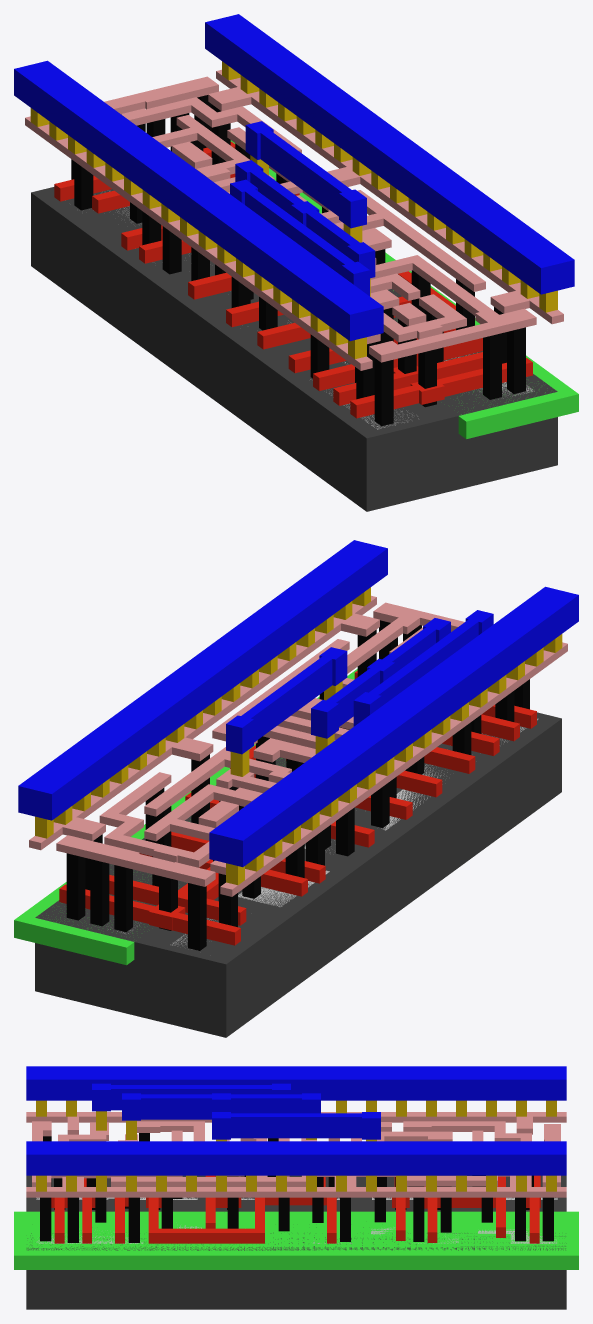
Rendered from sky130_fd_sc_hd__xnor3_1.obj.
The picture shows the model from 3 angles, top to bottom: view 1: azimuth 30°, elevation 25°; view 2: azimuth 150°, elevation 25°; view 3: azimuth 270°, elevation 25°; orthographic projection. The views are drawn at different scales.
Visible parts, largest first — view 1: metal1, subs, li, licon, poly, mcon, nwell; view 2: metal1, subs, li, licon, poly, mcon, nwell, diff; view 3: metal1, subs, nwell, li, poly, licon, mcon, tap.
Part boxes in pixels (<box>): metal1: <box>14,14,574,341</box>; subs: <box>31,187,557,511</box>; li: <box>25,69,563,370</box>; licon: <box>71,95,525,426</box>; poly: <box>54,141,532,418</box>; mcon: <box>30,61,557,359</box>; nwell: <box>230,140,578,439</box>; metal1: <box>18,540,578,867</box>; subs: <box>35,712,561,1037</box>; li: <box>29,595,567,896</box>; licon: <box>66,620,529,950</box>; poly: <box>59,670,536,945</box>; mcon: <box>35,587,562,885</box>; nwell: <box>14,669,357,965</box>; diff: <box>170,718,538,946</box>; metal1: <box>26,1066,566,1175</box>; subs: <box>26,1175,566,1309</box>; nwell: <box>14,1211,578,1269</box>; li: <box>26,1112,566,1197</box>; poly: <box>51,1175,540,1243</box>; licon: <box>40,1133,553,1242</box>; mcon: <box>36,1100,556,1191</box>; tap: <box>36,1225,556,1243</box>.
Bounding box in the file's own units: 3.2 × 2.74 × 8.66.
